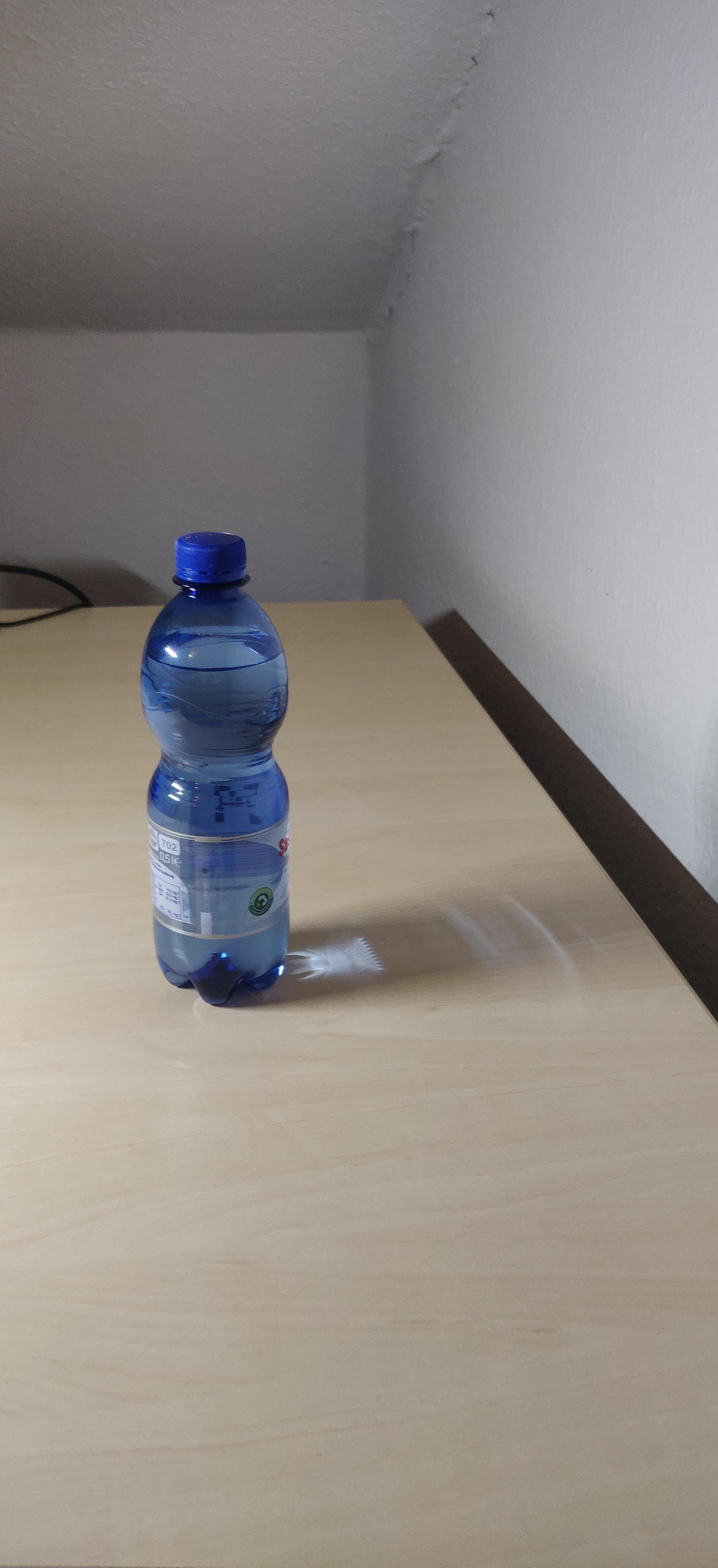bottle-plastic: (139, 531, 292, 1007)
